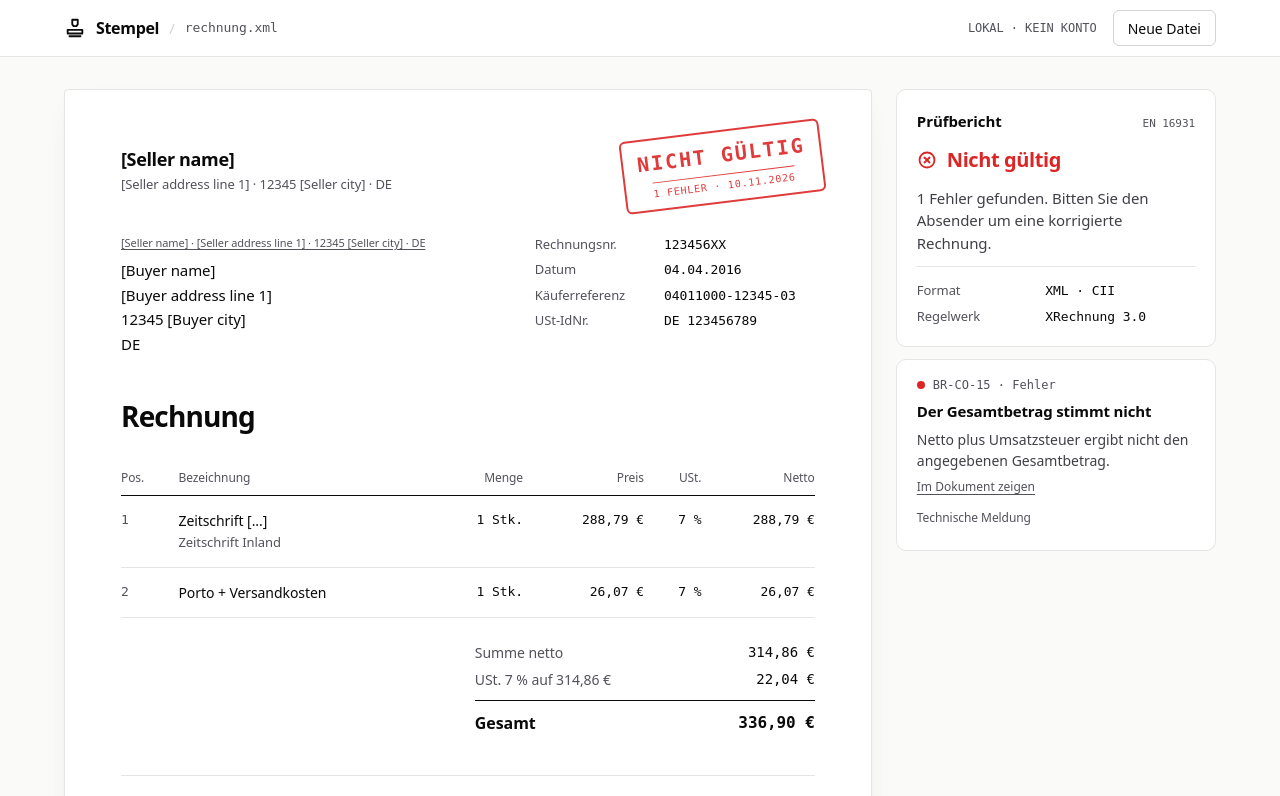
Test: App › shows errors and highlights the matching part of the invoice
This screenshot has width=1280, height=796.
Earlier steps of the test are not shown.
Later steps or results of the test are not shown.
Expected: the text "Nicht gültig" is shown, [917,146,1061,172]
Expected: the picture named "Nicht gültig, 1 Fehler" is shown, [619,118,826,215]
Click the button "Der Gesamtbetrag stimmt nicht" at (1056, 436), box [917,376,1195,496]
(page scrolled)
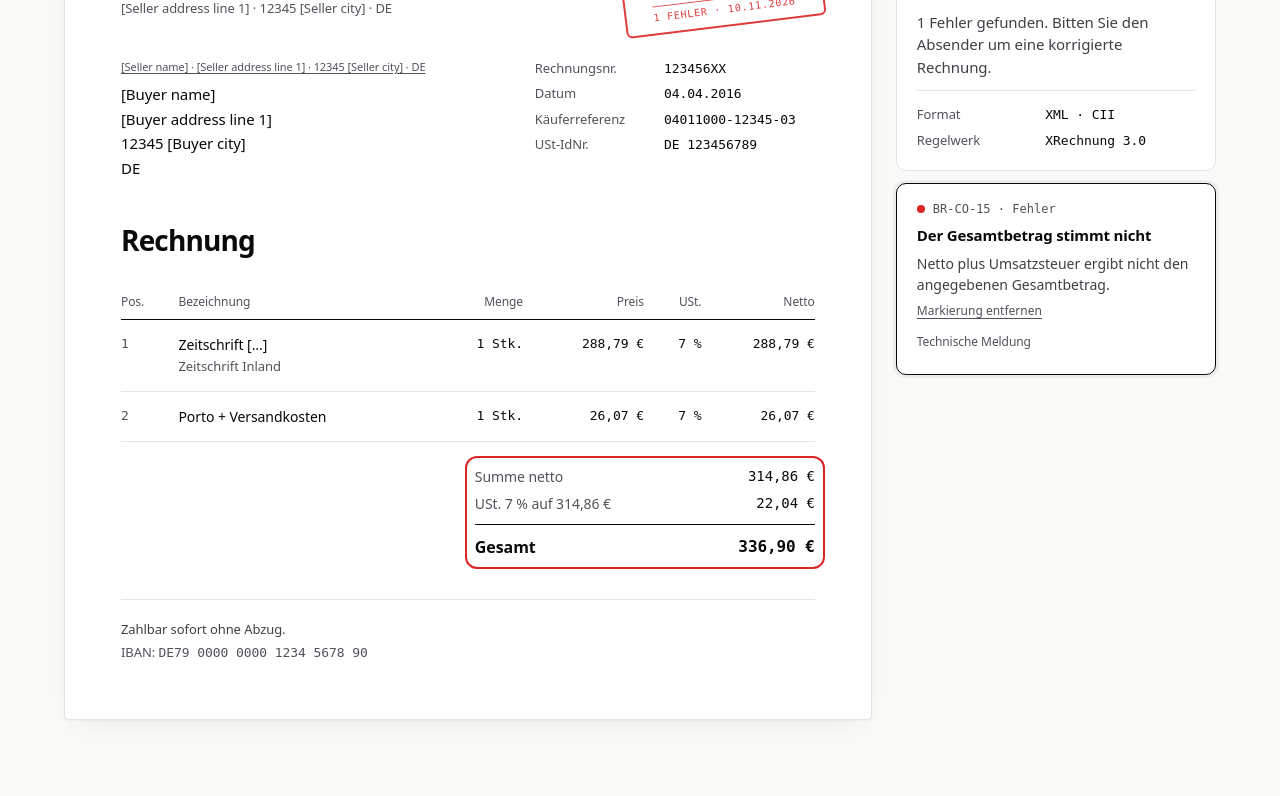
Now the element that starts with "Summe netto" has class "doc__highlight--error", box [475,466,815,558]
